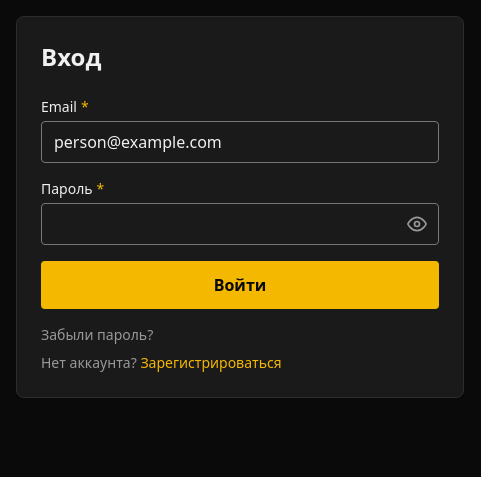
pending and error handling › keeps a failed login with Неверный email или пароль. on a correctable screen
Type "password123" into the password field with id "login-password" at coordinates (240, 224), box [41, 203, 439, 245]
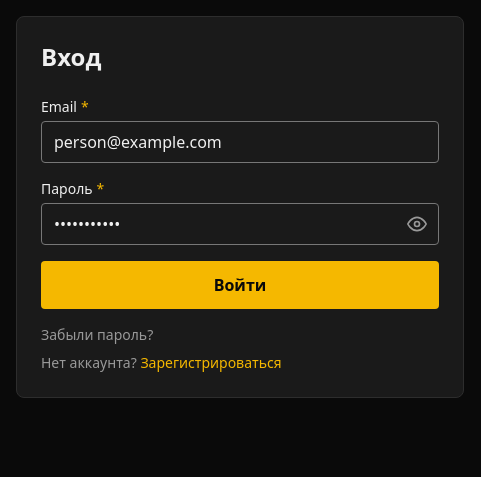
Submit the form, box [41, 97, 439, 309]
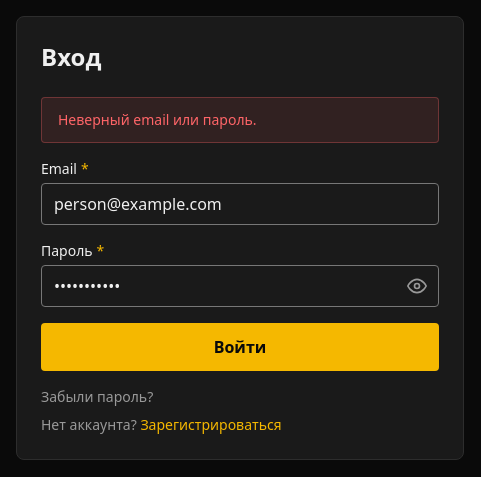
Expected: the field with id "login-email" holds "person@example.com", [41, 183, 439, 225]
Result: the message reads "Неверный email или пароль." at [58, 110, 257, 129]
